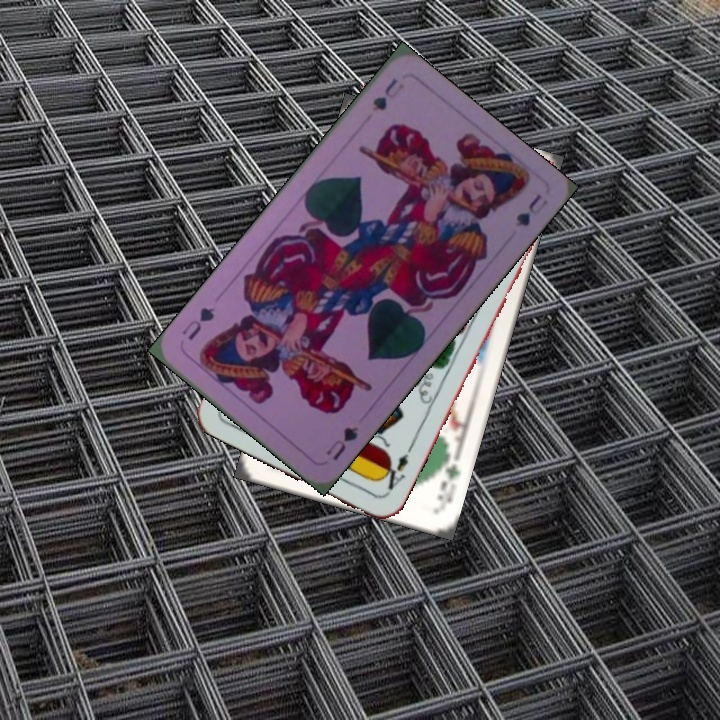EA: (376, 442, 415, 497)
GK: (433, 450, 463, 511)
GU: (322, 422, 361, 463), (368, 74, 407, 114)
